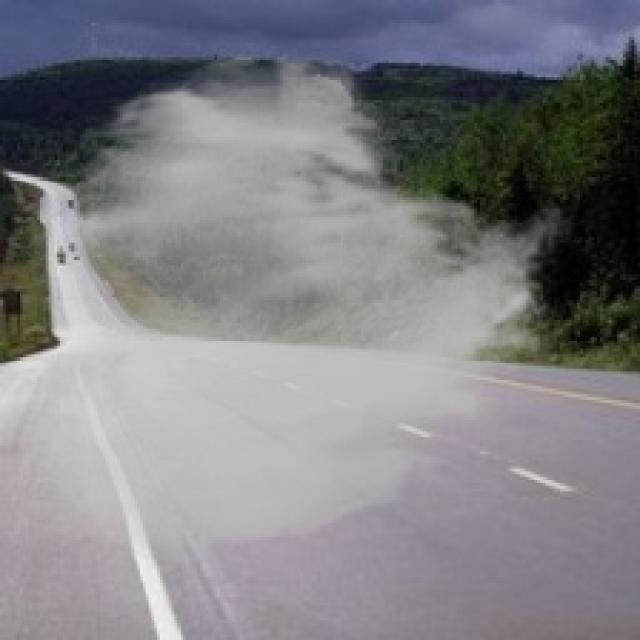smoke: (9, 48, 574, 566)
